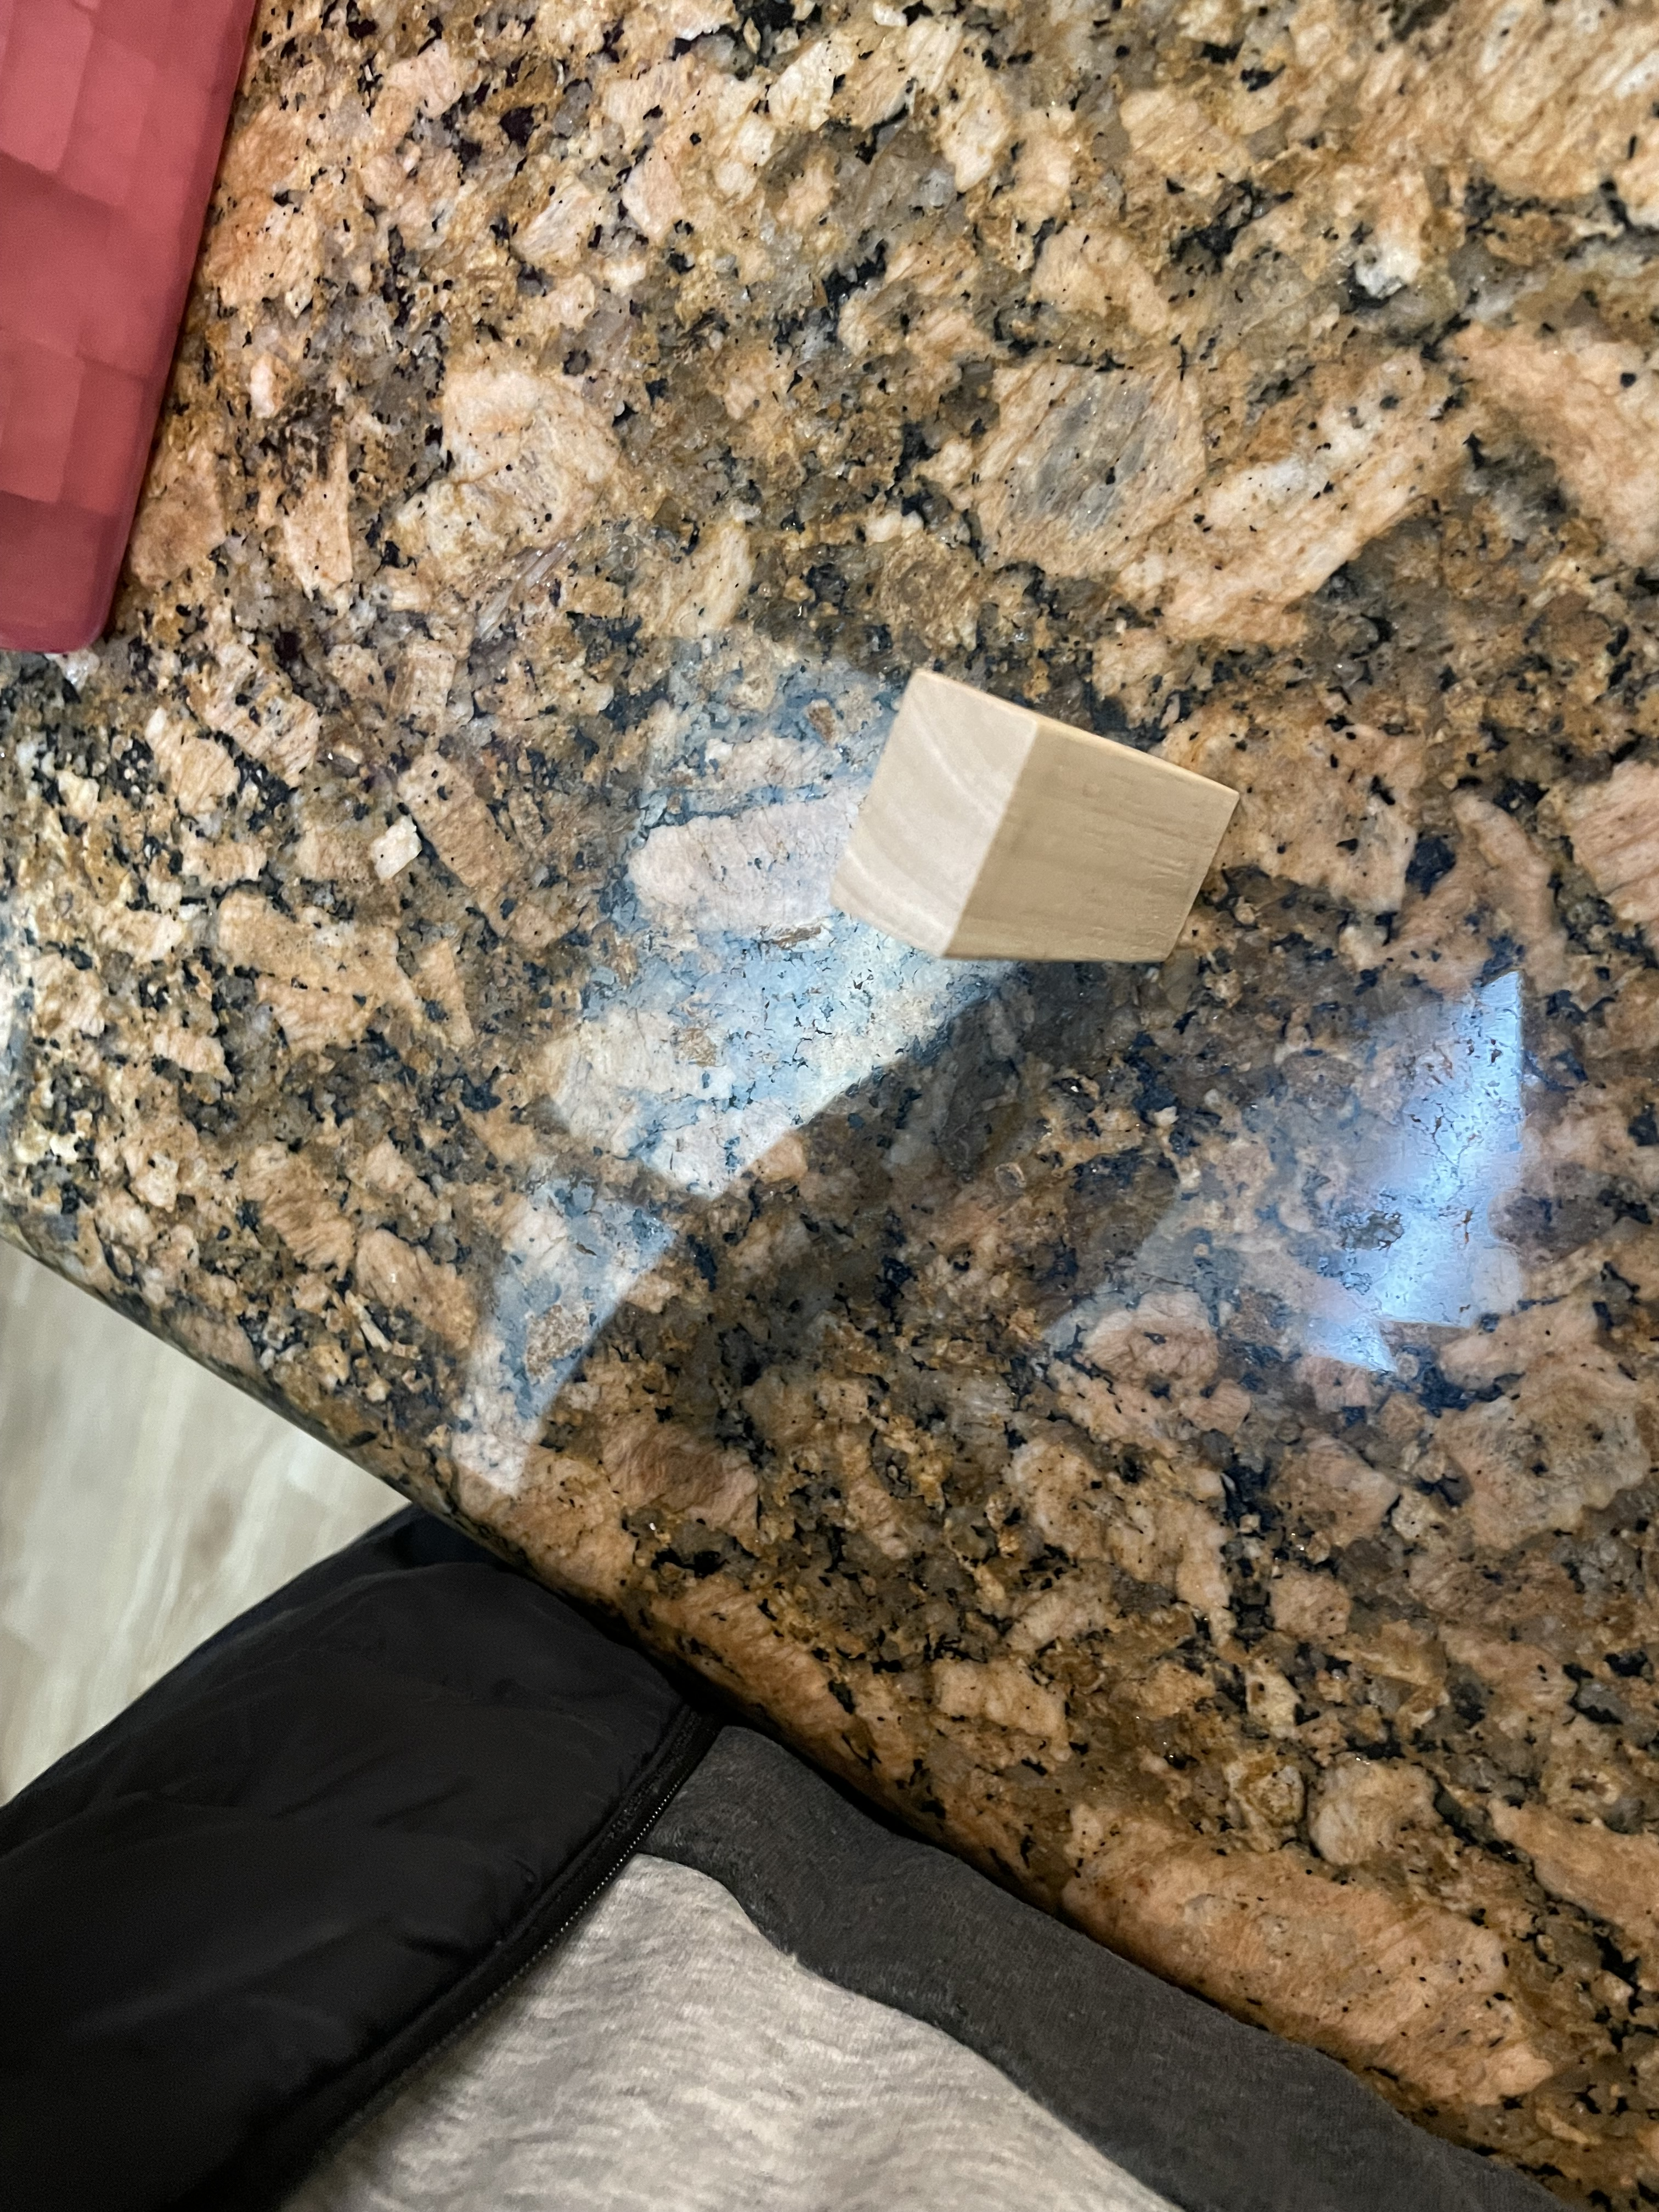jenga: (826, 672, 1260, 975)
